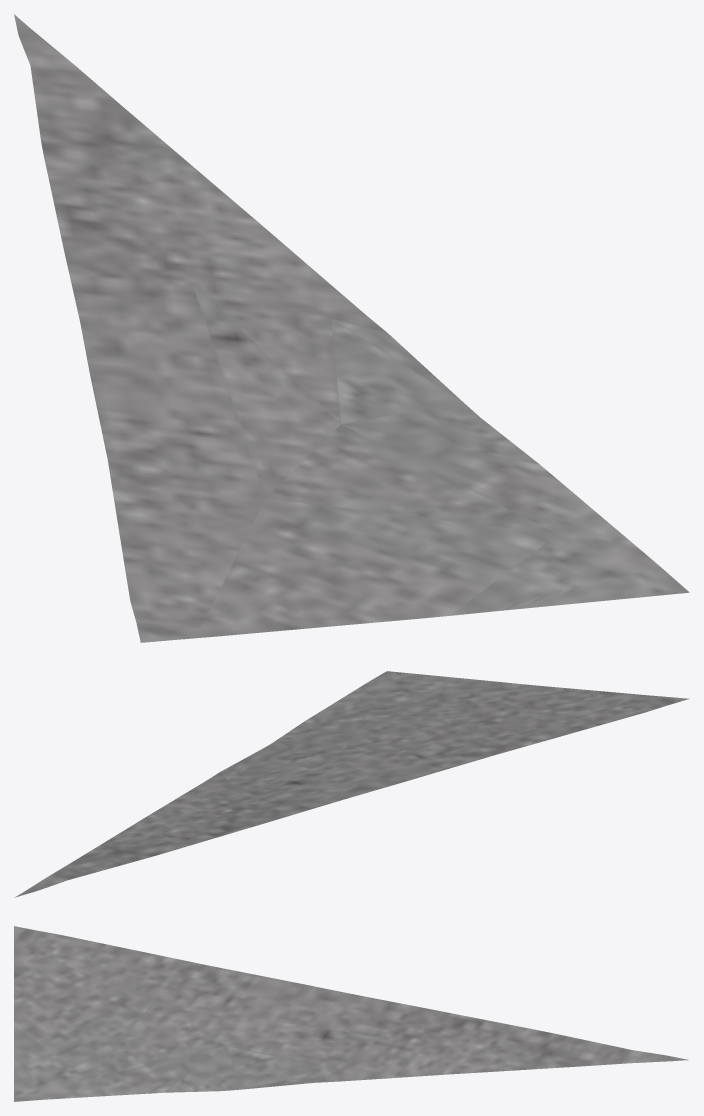
The picture shows the model from 3 angles, top to bottom: view 1: azimuth 30°, elevation 25°; view 2: azimuth 150°, elevation 25°; view 3: azimuth 270°, elevation 25°; orthographic projection. The views are drawn at different scales.
Bounding box in the file's own units: 0.7253 × 0.1057 × 1.55.
1 material, 1 textured.
